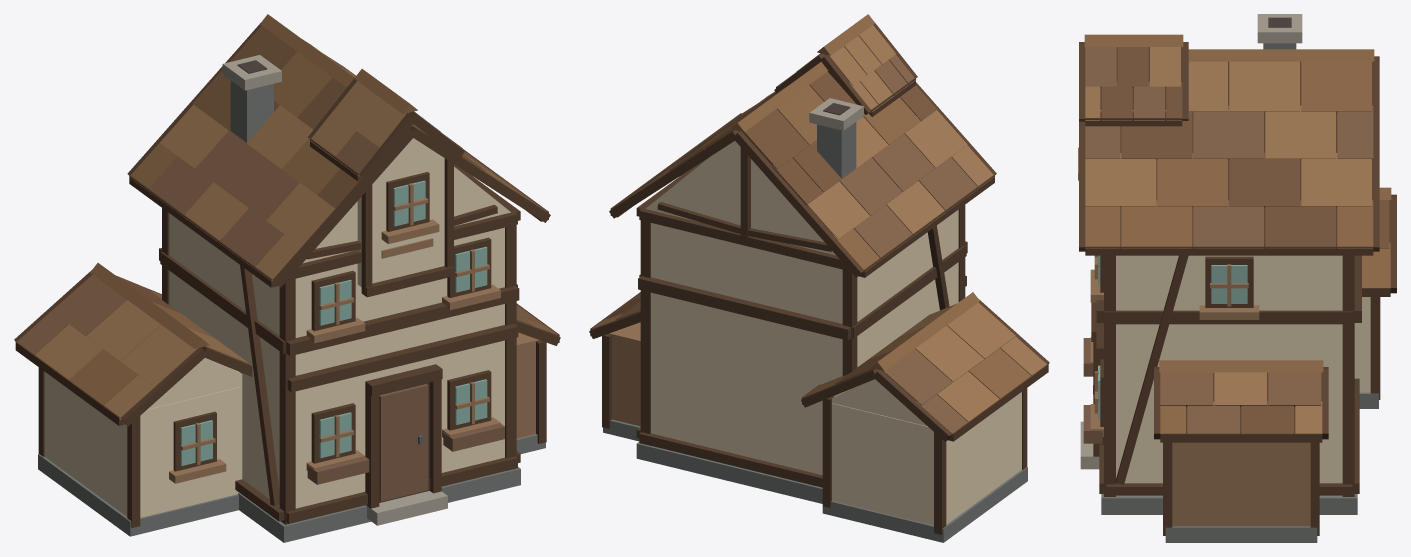
Rendered from ENV_Cottage_B_LOD1.glb.
The picture shows the model from 3 angles, left to right: view 1: azimuth 30°, elevation 25°; view 2: azimuth 150°, elevation 25°; view 3: azimuth 270°, elevation 25°; orthographic projection. The views are drawn at different scales.
Parts seen in each view (by area): view 1: ENV_Cottage_B_LOD1_shell_upper_plasterIvory, ENV_Cottage_B_LOD1_roof_upper_roofTiles, ENV_Cottage_B_LOD1_shell_upper_woodDark, ENV_Cottage_B_LOD1_wing_plasterIvory, ENV_Cottage_B_LOD1_wing_roofTiles, ENV_Cottage_B_LOD1_master_gable_woodDark, ENV_Cottage_B_LOD1_upper_rooms_woodDark, ENV_Cottage_B_LOD1_wing_woodDark, ENV_Cottage_B_LOD1_roof_upper_woodDark, ENV_Cottage_B_LOD1_master_gable_plasterIvory, ENV_Cottage_B_LOD1_master_gable_roofTiles, ENV_Cottage_B_LOD1_shell_upper_wood (+16 smaller); view 2: ENV_Cottage_B_LOD1_shell_upper_plasterIvory, ENV_Cottage_B_LOD1_roof_upper_roofTiles, ENV_Cottage_B_LOD1_wing_plasterIvory, ENV_Cottage_B_LOD1_wing_roofTiles, ENV_Cottage_B_LOD1_shell_upper_woodDark, ENV_Cottage_B_LOD1_wing_woodDark, ENV_Cottage_B_LOD1_roof_upper_woodDark, ENV_Cottage_B_LOD1_upper_rooms_woodDark, ENV_Cottage_B_LOD1_master_gable_roofTiles, ENV_Cottage_B_LOD1_foundation_stoneDark, ENV_Cottage_B_LOD1_wing_stoneDark, ENV_Cottage_B_LOD1_shed_woodLight (+4 smaller); view 3: ENV_Cottage_B_LOD1_roof_upper_roofTiles, ENV_Cottage_B_LOD1_shell_upper_plasterIvory, ENV_Cottage_B_LOD1_shed_roofTiles, ENV_Cottage_B_LOD1_shed_woodLight, ENV_Cottage_B_LOD1_shell_upper_woodDark, ENV_Cottage_B_LOD1_master_gable_roofTiles, ENV_Cottage_B_LOD1_roof_upper_woodDark, ENV_Cottage_B_LOD1_upper_rooms_woodDark, ENV_Cottage_B_LOD1_shed_woodDark, ENV_Cottage_B_LOD1_shed_stoneDark, ENV_Cottage_B_LOD1_master_gable_woodDark, ENV_Cottage_B_LOD1_wing_woodDark (+9 smaller).
Part boxes in pixels (<box>): ENV_Cottage_B_LOD1_shell_upper_plasterIvory: <box>169,166,510,508</box>; ENV_Cottage_B_LOD1_roof_upper_roofTiles: <box>129,14,548,281</box>; ENV_Cottage_B_LOD1_shell_upper_woodDark: <box>162,164,520,524</box>; ENV_Cottage_B_LOD1_wing_plasterIvory: <box>44,358,242,517</box>; ENV_Cottage_B_LOD1_wing_roofTiles: <box>17,263,248,419</box>; ENV_Cottage_B_LOD1_master_gable_woodDark: <box>308,78,464,297</box>; ENV_Cottage_B_LOD1_upper_rooms_woodDark: <box>159,237,519,356</box>; ENV_Cottage_B_LOD1_wing_woodDark: <box>14,270,252,527</box>; ENV_Cottage_B_LOD1_roof_upper_woodDark: <box>127,23,550,287</box>; ENV_Cottage_B_LOD1_master_gable_plasterIvory: <box>357,138,444,286</box>; ENV_Cottage_B_LOD1_master_gable_roofTiles: <box>310,69,462,176</box>; ENV_Cottage_B_LOD1_shell_upper_wood: <box>379,384,428,501</box>; ENV_Cottage_B_LOD1_shell_upper_plasterIvory: <box>645,141,958,475</box>; ENV_Cottage_B_LOD1_roof_upper_roofTiles: <box>611,62,994,272</box>; ENV_Cottage_B_LOD1_wing_plasterIvory: <box>832,379,1021,525</box>; ENV_Cottage_B_LOD1_wing_roofTiles: <box>802,292,1046,436</box>; ENV_Cottage_B_LOD1_shell_upper_woodDark: <box>636,147,966,487</box>; ENV_Cottage_B_LOD1_wing_woodDark: <box>801,299,1049,534</box>; ENV_Cottage_B_LOD1_roof_upper_woodDark: <box>609,82,996,277</box>; ENV_Cottage_B_LOD1_upper_rooms_woodDark: <box>638,241,967,340</box>; ENV_Cottage_B_LOD1_master_gable_roofTiles: <box>777,14,915,112</box>; ENV_Cottage_B_LOD1_foundation_stoneDark: <box>636,442,822,503</box>; ENV_Cottage_B_LOD1_wing_stoneDark: <box>822,467,1027,542</box>; ENV_Cottage_B_LOD1_shed_woodLight: <box>608,322,640,426</box>; ENV_Cottage_B_LOD1_roof_upper_roofTiles: <box>1085,49,1374,248</box>; ENV_Cottage_B_LOD1_shell_upper_plasterIvory: <box>1116,255,1342,496</box>; ENV_Cottage_B_LOD1_shed_roofTiles: <box>1159,360,1323,433</box>; ENV_Cottage_B_LOD1_shed_woodLight: <box>1172,442,1310,526</box>; ENV_Cottage_B_LOD1_shell_upper_woodDark: <box>1091,255,1359,496</box>; ENV_Cottage_B_LOD1_master_gable_roofTiles: <box>1084,34,1183,120</box>; ENV_Cottage_B_LOD1_roof_upper_woodDark: <box>1079,56,1379,255</box>; ENV_Cottage_B_LOD1_upper_rooms_woodDark: <box>1096,255,1361,324</box>; ENV_Cottage_B_LOD1_shed_woodDark: <box>1154,367,1328,535</box>; ENV_Cottage_B_LOD1_shed_stoneDark: <box>1165,526,1317,542</box>; ENV_Cottage_B_LOD1_master_gable_woodDark: <box>1079,42,1188,126</box>; ENV_Cottage_B_LOD1_wing_woodDark: <box>1362,194,1396,399</box>.
Bounding box in the file's own units: 7.18 × 6.62 × 4.54.
